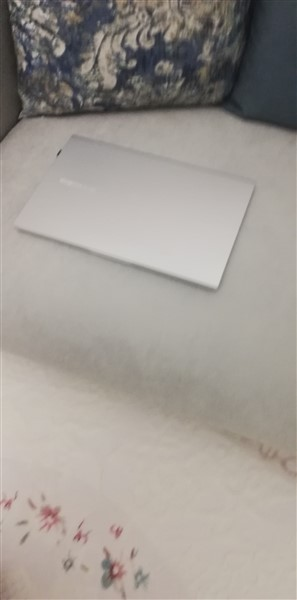laptop: (12, 122, 259, 306)
